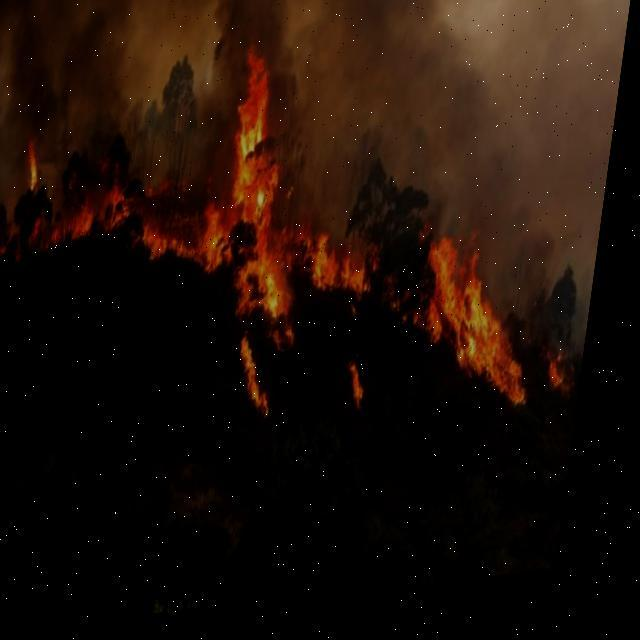Fire: (0, 28, 583, 466), (242, 343, 288, 427), (556, 359, 592, 408), (354, 368, 380, 422), (24, 139, 48, 194)
